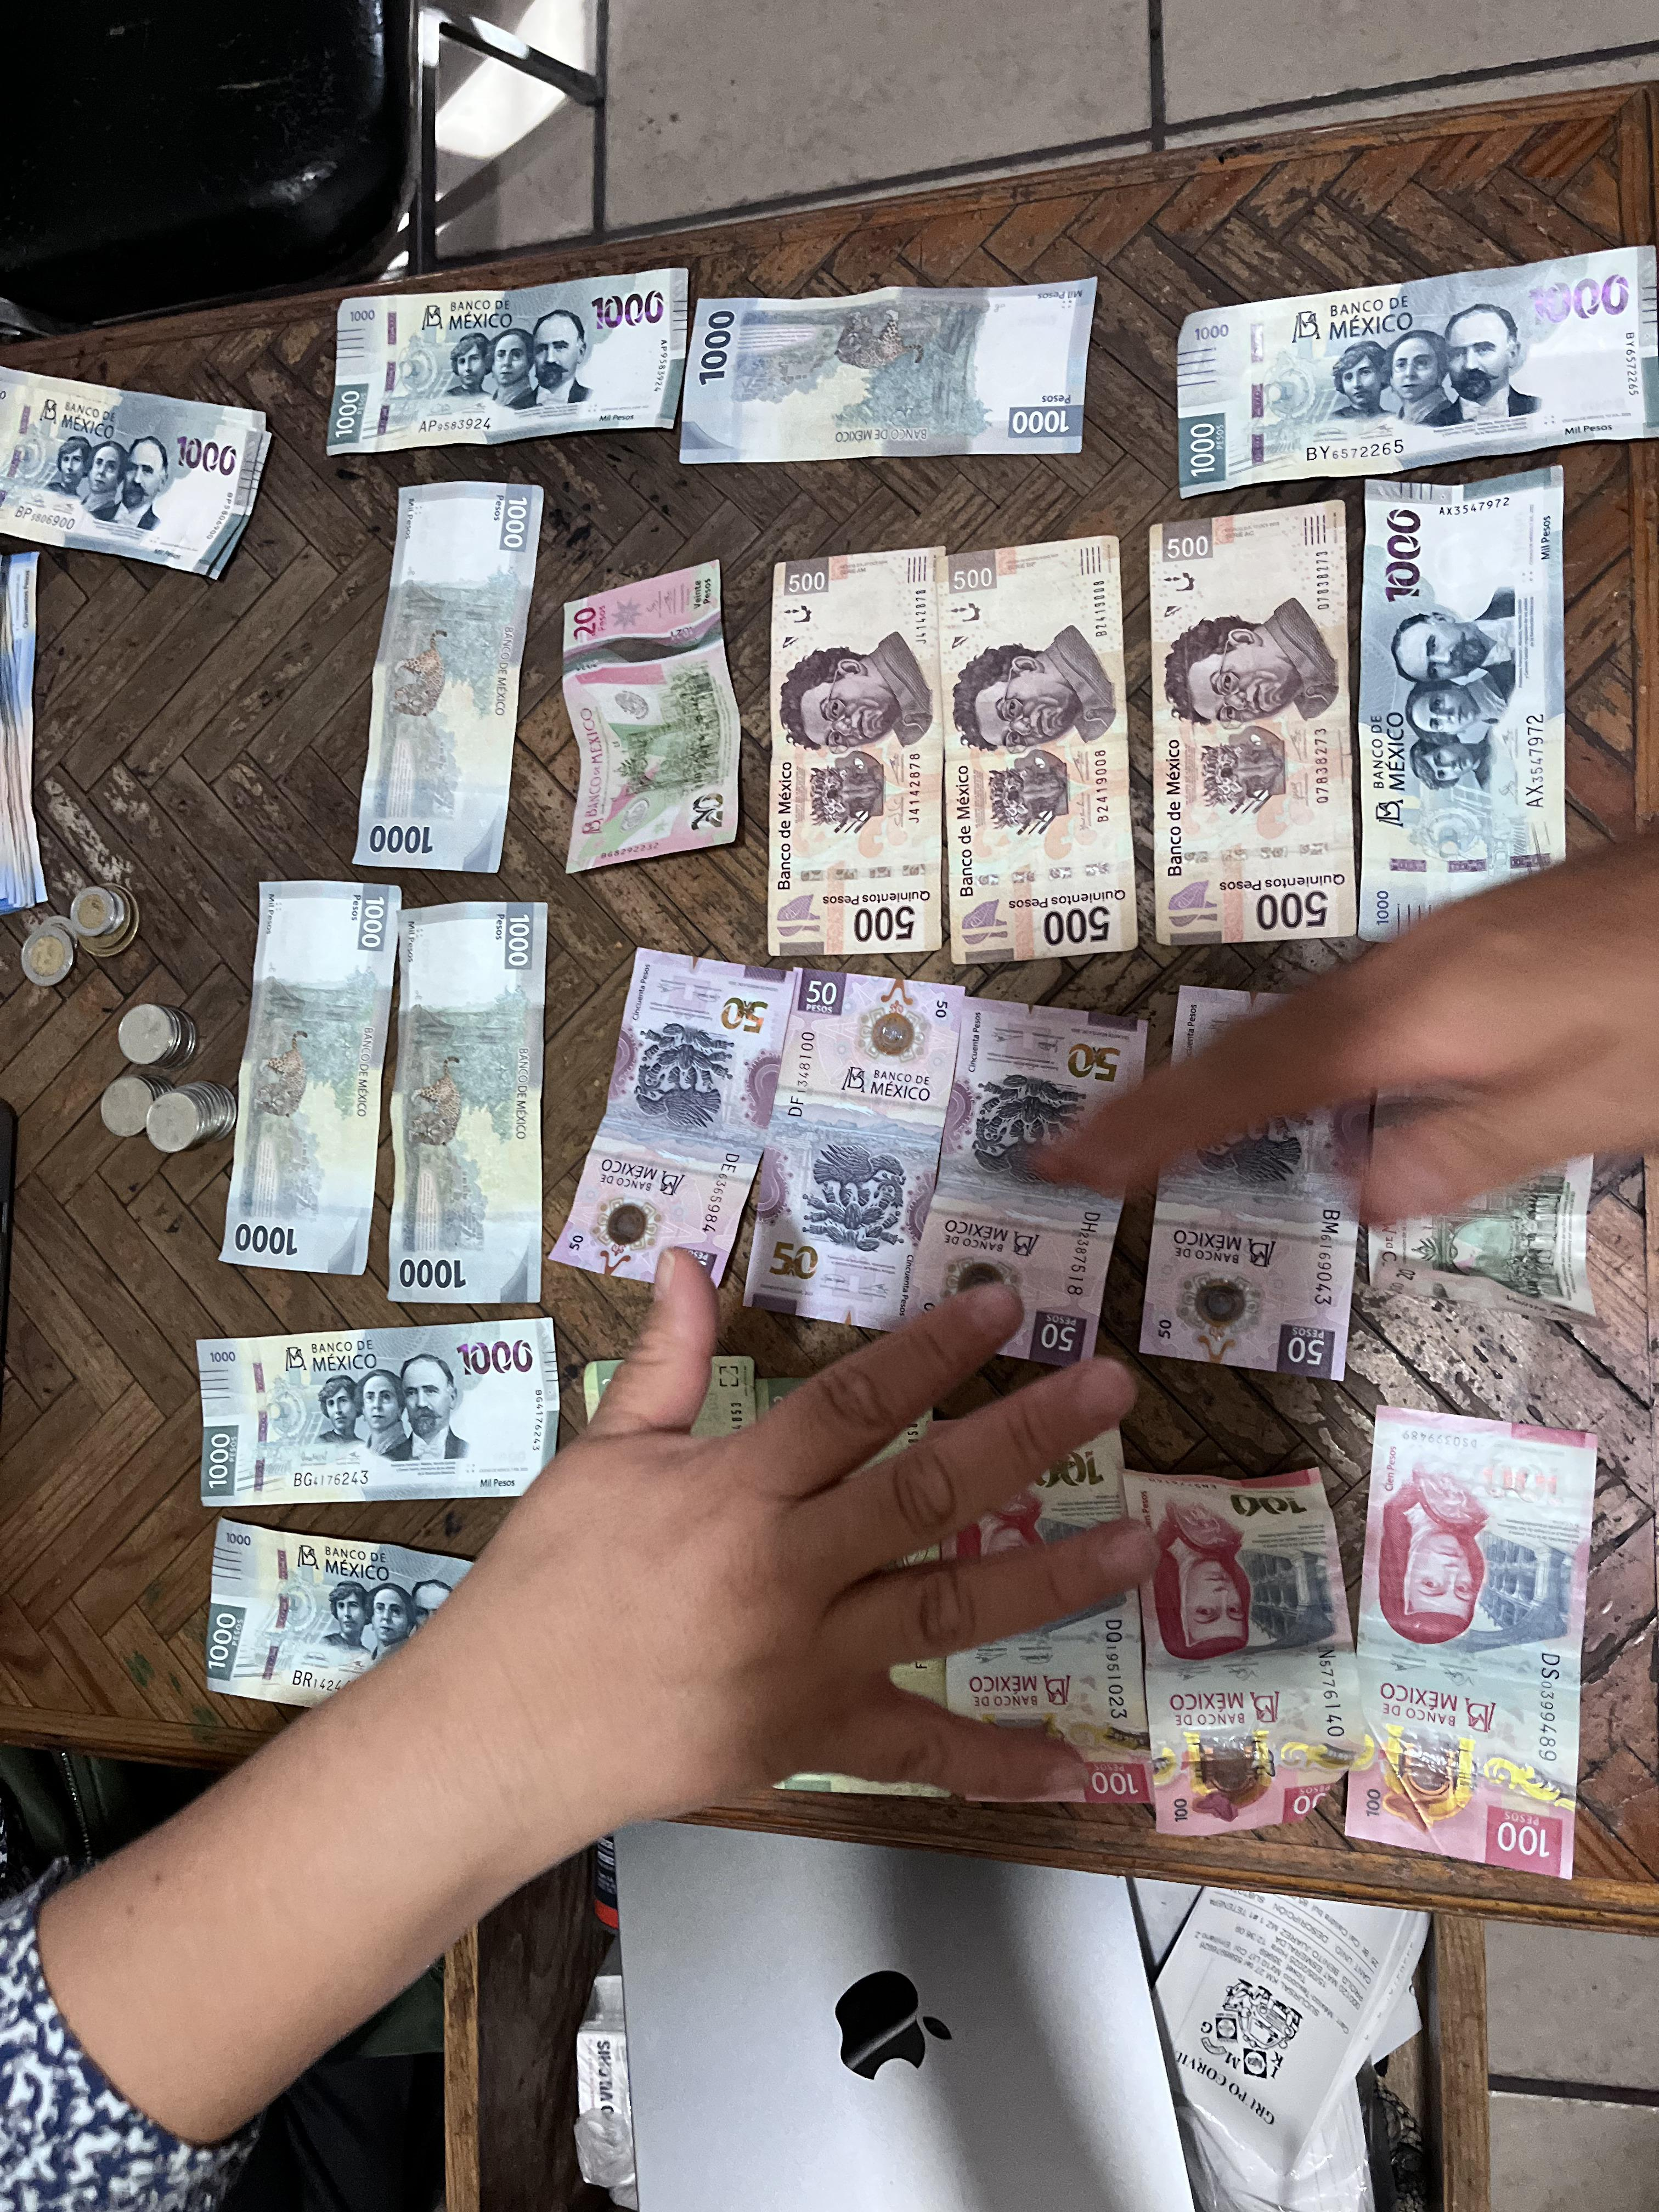100: (1351, 1397, 1598, 1885), (915, 1406, 1168, 1824), (1117, 1437, 1364, 1857)
1000: (1148, 261, 1659, 498), (1342, 465, 1586, 954), (671, 247, 1105, 486), (338, 467, 563, 878), (179, 1303, 570, 1510), (307, 275, 692, 456), (220, 874, 390, 1282), (0, 354, 295, 587), (390, 894, 545, 1312), (190, 1503, 486, 1707)
20: (547, 543, 749, 885), (1354, 1103, 1617, 1343)
200: (748, 1364, 957, 1818), (579, 1346, 762, 1500)
50: (1143, 968, 1370, 1400), (540, 923, 781, 1299), (917, 993, 1145, 1383), (767, 953, 953, 1339)
500: (1138, 489, 1352, 958), (763, 523, 958, 975), (939, 524, 1134, 972)
500 nuevo: (0, 547, 56, 914)
